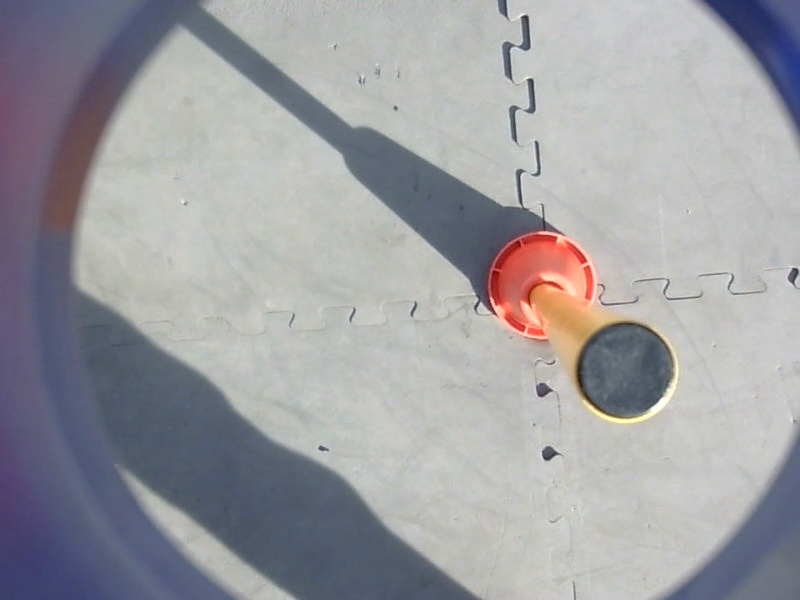tip: (566, 316, 684, 432)
